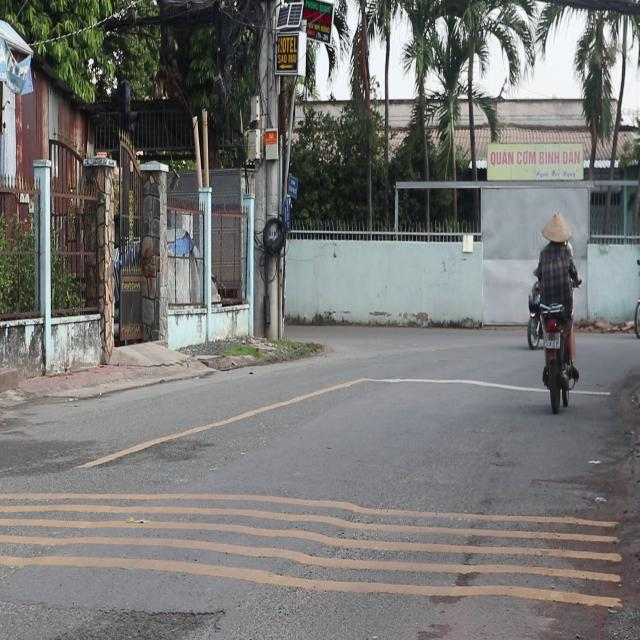licenseplate: (532, 208, 580, 409)
motorcyclist: (539, 210, 572, 249)
nohelmet: (543, 332, 559, 348)
